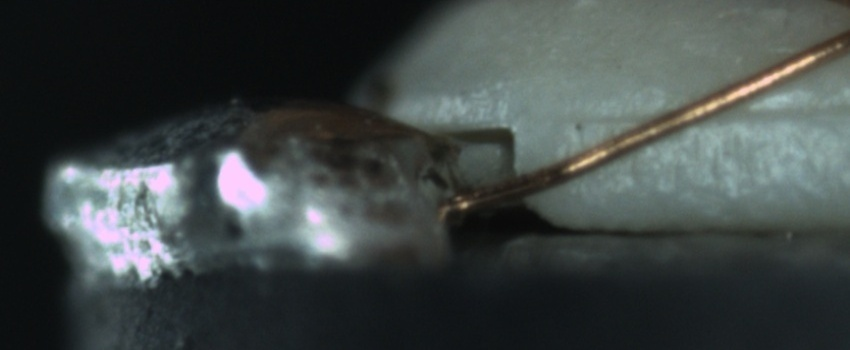DL: (562, 82, 847, 147)
